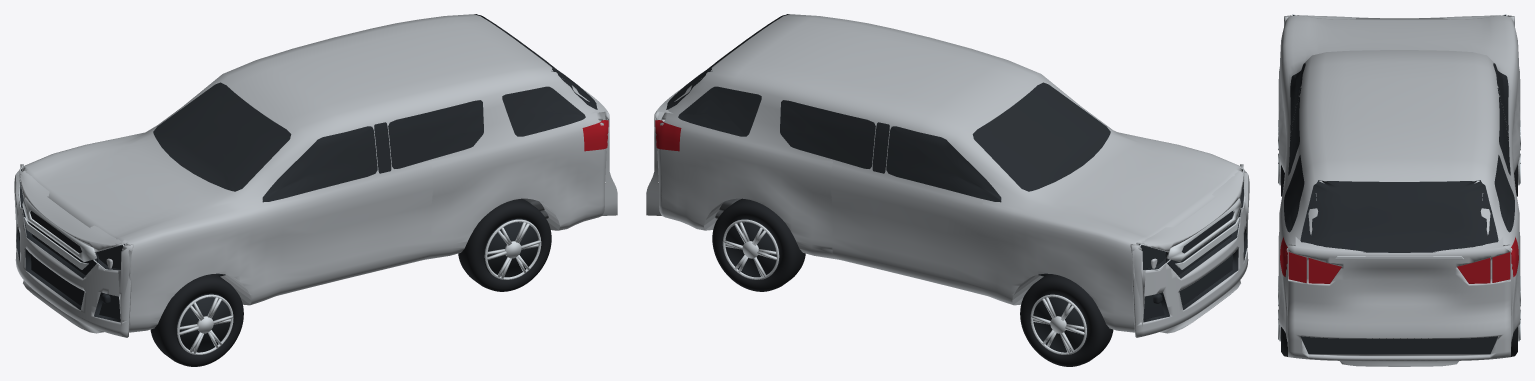
The model's file is isuzu-mux-web.glb.
The picture shows the model from 3 angles, left to right: view 1: azimuth 30°, elevation 25°; view 2: azimuth 150°, elevation 25°; view 3: azimuth 270°, elevation 25°; orthographic projection. The views are drawn at different scales.
Visible parts, largest first — view 1: V03_NEW_EXTERIOR_SHELL, V03_COHERENT_WINDSCREEN, V04_FASCIA_SHARED_CURVED_SKIN, V03_COHERENT_FRONT_-1, V04_REAR_SIDE_GLASS_-1, WHEEL_RR tire, WHEEL_FR tire, V04_QUARTER_GLASS_-1, V04_BONNET_LEADING_TRANSITION, WHEEL_RR rim barrel, WHEEL_FR rim barrel, V04_GRILLE_UPPER_CHROME_SURROUND (+9 smaller); view 2: V03_NEW_EXTERIOR_SHELL, V03_COHERENT_WINDSCREEN, V04_FASCIA_SHARED_CURVED_SKIN, V03_COHERENT_FRONT_1, V04_REAR_SIDE_GLASS_1, WHEEL_RL tire, WHEEL_FL tire, V04_QUARTER_GLASS_1, V04_BONNET_LEADING_TRANSITION, WHEEL_RL rim barrel, WHEEL_FL rim barrel, V04_GRILLE_UPPER_CHROME_SURROUND (+9 smaller); view 3: V03_NEW_EXTERIOR_SHELL, V04_REAR_SHARED_TAILGATE_BUMPER_SKIN, V04_REAR_GLASS, V04_REAR_BUMPER_RECESSED_INSERT, V04_QUARTER_GLASS_1, V04_QUARTER_GLASS_-1, V04_REAR_LAMP_ENVELOPE_INNER1, V04_REAR_LAMP_ENVELOPE_INNER-1, V04_REAR_GLASS_LOWER_BODY_RETURN, V04_REAR_LAMP_ENVELOPE_OUTER1, V04_REAR_LAMP_ENVELOPE_OUTER-1, V04_REAR_GARNISH_MAIN_FORM (+7 smaller).
Part boxes in pixels (left/top/right/bottom): V03_NEW_EXTERIOR_SHELL: left=14, top=14, right=606, bottom=333; V03_COHERENT_WINDSCREEN: left=153, top=82, right=291, bottom=191; V04_FASCIA_SHARED_CURVED_SKIN: left=15, top=164, right=133, bottom=337; V03_COHERENT_FRONT_-1: left=262, top=126, right=377, bottom=202; V04_REAR_SIDE_GLASS_-1: left=388, top=100, right=483, bottom=168; WHEEL_RR tire: left=458, top=198, right=551, bottom=291; WHEEL_FR tire: left=150, top=274, right=243, bottom=366; V04_QUARTER_GLASS_-1: left=502, top=86, right=585, bottom=136; V04_BONNET_LEADING_TRANSITION: left=20, top=170, right=122, bottom=245; WHEEL_RR rim barrel: left=484, top=218, right=538, bottom=277; WHEEL_FR rim barrel: left=176, top=293, right=230, bottom=352; V04_GRILLE_UPPER_CHROME_SURROUND: left=22, top=198, right=96, bottom=262; V03_NEW_EXTERIOR_SHELL: left=657, top=14, right=1249, bottom=333; V03_COHERENT_WINDSCREEN: left=972, top=82, right=1110, bottom=191; V04_FASCIA_SHARED_CURVED_SKIN: left=1130, top=164, right=1248, bottom=337; V03_COHERENT_FRONT_1: left=886, top=126, right=1001, bottom=202; V04_REAR_SIDE_GLASS_1: left=780, top=100, right=875, bottom=168; WHEEL_RL tire: left=712, top=198, right=805, bottom=291; WHEEL_FL tire: left=1020, top=274, right=1113, bottom=366; V04_QUARTER_GLASS_1: left=678, top=86, right=761, bottom=136; V04_BONNET_LEADING_TRANSITION: left=1141, top=170, right=1243, bottom=245; WHEEL_RL rim barrel: left=725, top=218, right=779, bottom=277; WHEEL_FL rim barrel: left=1033, top=293, right=1087, bottom=352; V04_GRILLE_UPPER_CHROME_SURROUND: left=1167, top=198, right=1241, bottom=262; V03_NEW_EXTERIOR_SHELL: left=1278, top=15, right=1520, bottom=366; V04_REAR_SHARED_TAILGATE_BUMPER_SKIN: left=1288, top=244, right=1510, bottom=361; V04_REAR_GLASS: left=1300, top=180, right=1498, bottom=252; V04_REAR_BUMPER_RECESSED_INSERT: left=1301, top=336, right=1497, bottom=354; V04_QUARTER_GLASS_1: left=1494, top=155, right=1514, bottom=232; V04_QUARTER_GLASS_-1: left=1284, top=155, right=1304, bottom=232; V04_REAR_LAMP_ENVELOPE_INNER1: left=1457, top=258, right=1490, bottom=283; V04_REAR_LAMP_ENVELOPE_INNER-1: left=1308, top=258, right=1341, bottom=283; V04_REAR_GLASS_LOWER_BODY_RETURN: left=1295, top=237, right=1503, bottom=252; V04_REAR_LAMP_ENVELOPE_OUTER1: left=1492, top=252, right=1510, bottom=282; V04_REAR_LAMP_ENVELOPE_OUTER-1: left=1288, top=252, right=1306, bottom=282; V04_REAR_GARNISH_MAIN_FORM: left=1335, top=256, right=1463, bottom=259.
Bounding box in the file's own units: 4.83 × 1.82 × 1.87.
